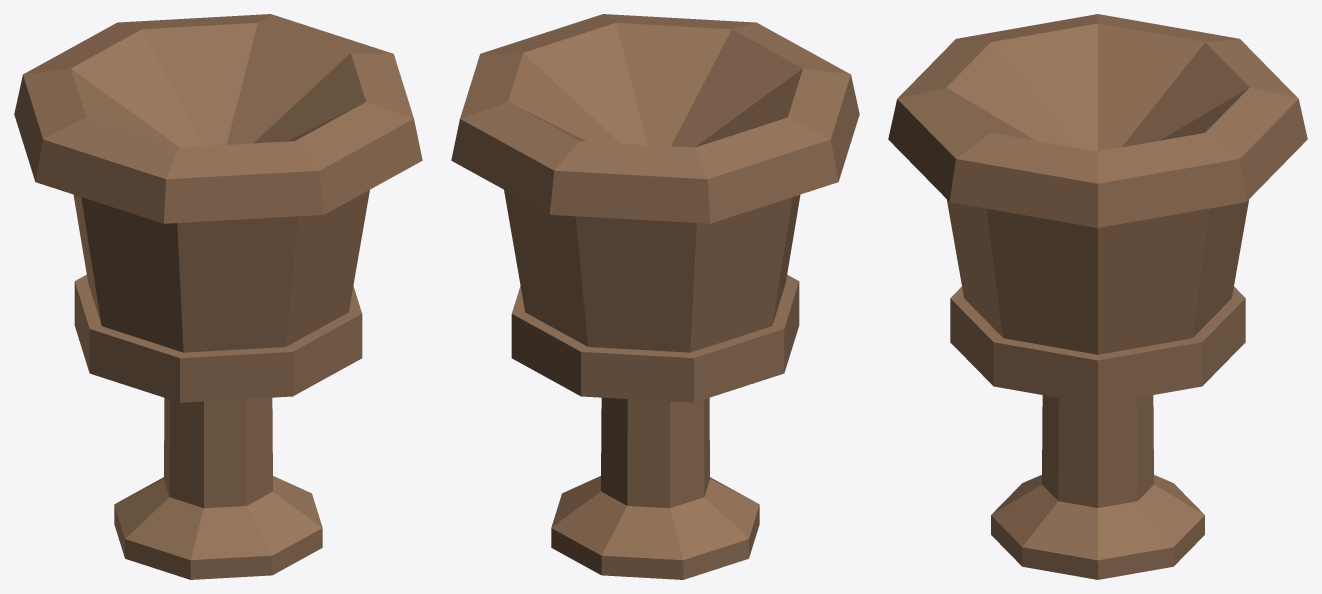
The model's file is Flowerpot-01.FBX.
The picture shows the model from 3 angles, left to right: view 1: azimuth 30°, elevation 25°; view 2: azimuth 150°, elevation 25°; view 3: azimuth 270°, elevation 25°; orthographic projection.
Visible parts, largest first — view 1: Cylinder003; view 2: Cylinder003; view 3: Cylinder003.
Part boxes in pixels (<box>): Cylinder003: <box>14,14,422,579</box>; Cylinder003: <box>451,14,859,579</box>; Cylinder003: <box>888,14,1307,579</box>.
Size of the model in its own units: 158 by 186 by 158.
